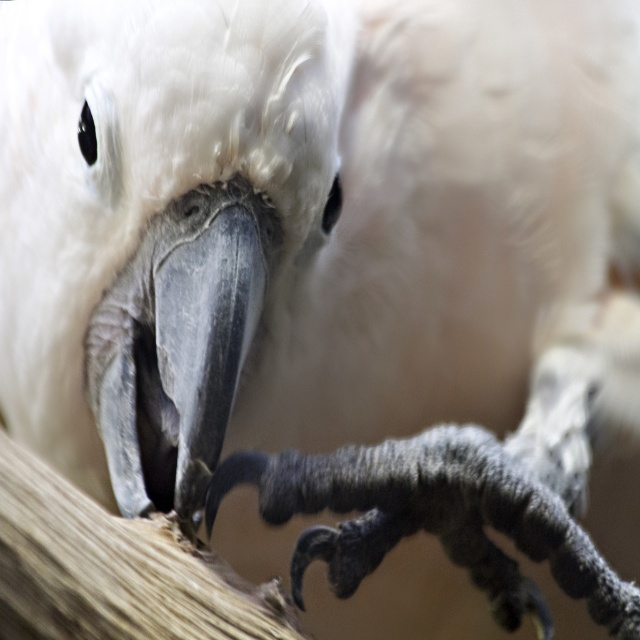Parrot: (0, 0, 639, 638)
